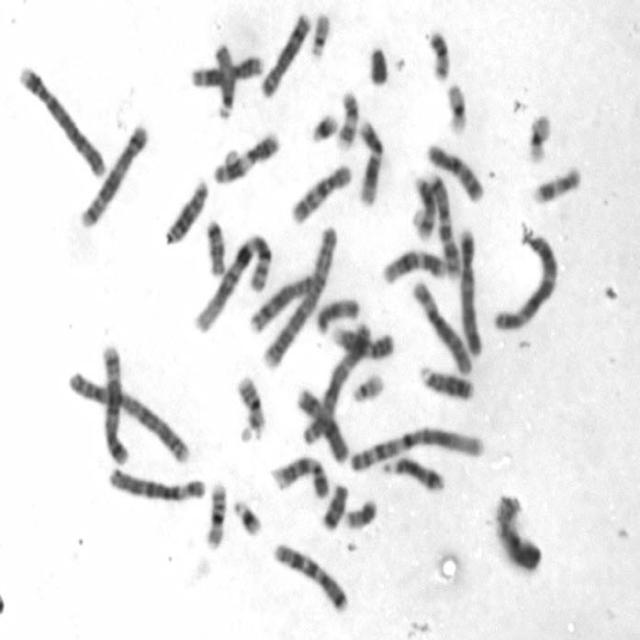A1: (190, 229, 274, 336), (346, 422, 485, 474)
A2: (64, 366, 192, 464), (256, 219, 338, 371)
A3: (298, 317, 374, 447), (490, 227, 560, 333)
B4: (16, 62, 108, 180), (455, 224, 484, 358)
B5: (78, 121, 150, 230), (98, 340, 130, 465)
C10: (286, 159, 354, 226), (424, 142, 486, 206)
C11: (209, 128, 283, 187), (188, 50, 266, 89)
C12: (378, 244, 448, 286), (354, 116, 385, 207)
C6: (408, 276, 473, 376), (106, 463, 208, 505)
C7: (269, 540, 350, 614), (428, 175, 463, 281)
C8: (257, 10, 312, 99), (246, 272, 316, 335)
C9: (268, 451, 331, 500), (330, 322, 395, 361)
D13: (161, 176, 209, 246), (417, 361, 475, 401)
D14: (379, 452, 446, 493), (409, 172, 437, 242)
D15: (311, 293, 361, 337), (211, 40, 237, 120)
E16: (232, 371, 268, 440), (202, 478, 228, 550)
E17: (529, 161, 583, 206), (333, 87, 360, 152)
E18: (318, 478, 349, 532), (203, 215, 227, 278)
F19: (522, 109, 554, 166), (443, 78, 468, 136)
F20: (424, 26, 451, 84)
G21: (230, 494, 264, 537), (306, 109, 339, 145)
G22: (307, 8, 332, 60), (349, 370, 386, 403)
X: (294, 383, 350, 465)
Y: (342, 494, 378, 530), (366, 43, 390, 87)
